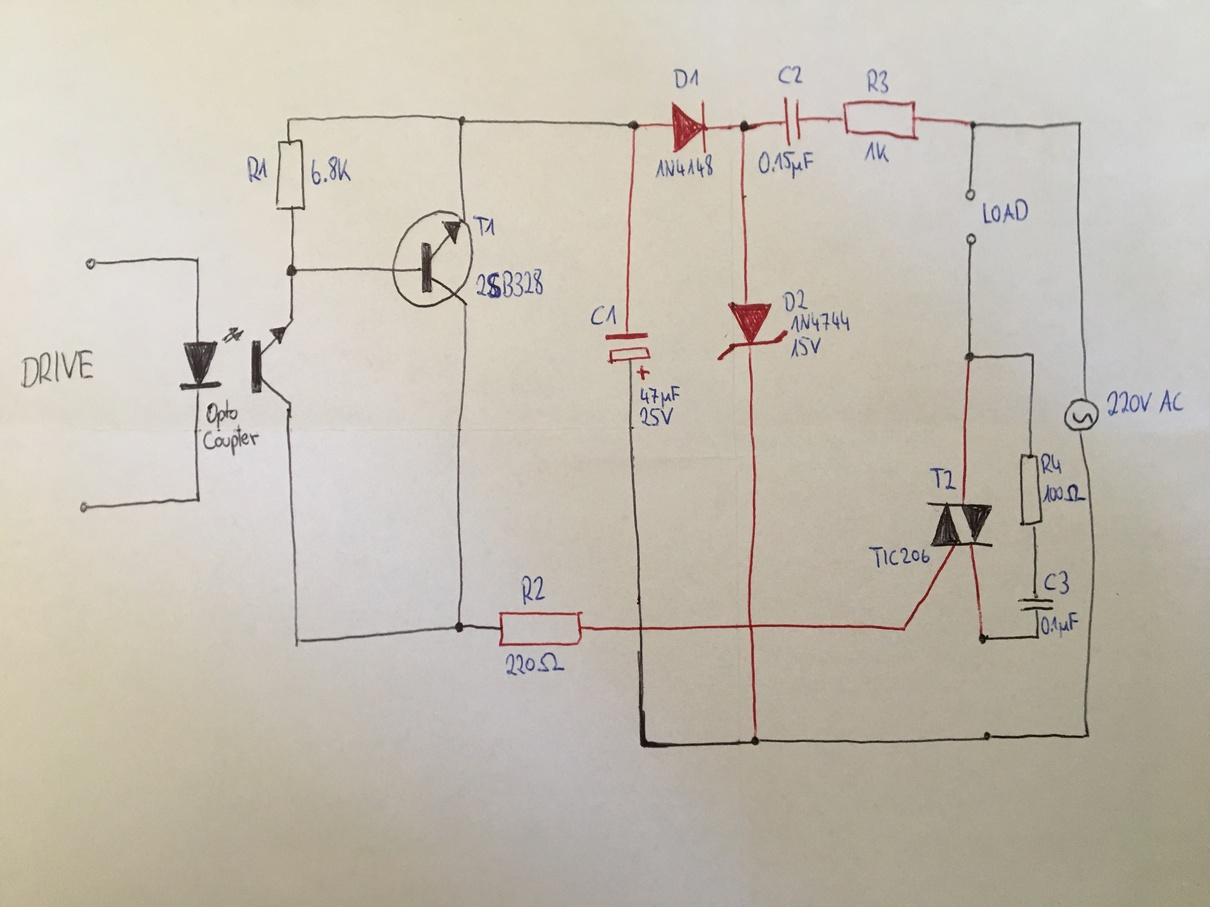capacitor.polarized: (603, 330, 654, 382)
capacitor.unpolarized: (780, 94, 806, 149), (1015, 594, 1056, 614)
crossover: (745, 619, 758, 632), (636, 622, 648, 635)
diode: (716, 301, 790, 362), (669, 97, 709, 156)
junction: (284, 262, 301, 279), (736, 118, 751, 136), (748, 730, 763, 748), (626, 118, 642, 133), (965, 117, 980, 131), (456, 113, 469, 129), (453, 620, 466, 635), (638, 737, 651, 752), (963, 350, 976, 363), (292, 635, 304, 649), (977, 632, 989, 645), (192, 494, 204, 506), (1081, 729, 1093, 740), (1074, 118, 1085, 129), (284, 114, 294, 125), (1027, 350, 1037, 361), (193, 254, 203, 264), (900, 623, 909, 634), (1033, 633, 1041, 641)
optocoupler: (178, 318, 295, 406)
resistor: (841, 97, 921, 144), (496, 609, 585, 649), (272, 137, 309, 214), (1018, 451, 1046, 530)
terminal: (83, 256, 102, 272), (964, 230, 978, 249), (78, 499, 93, 515), (964, 185, 977, 202)
text: (19, 347, 96, 390), (1105, 388, 1186, 417), (474, 267, 545, 300), (202, 426, 261, 457), (757, 149, 815, 180), (654, 153, 716, 180), (504, 651, 567, 677), (867, 544, 931, 569), (790, 309, 852, 333), (309, 154, 354, 187), (981, 197, 1030, 225), (1040, 610, 1079, 639), (204, 397, 239, 428), (519, 573, 548, 607), (1042, 482, 1087, 503), (639, 385, 681, 407), (789, 335, 823, 360), (637, 406, 675, 428), (928, 466, 959, 492), (1042, 569, 1071, 596), (245, 154, 270, 184), (863, 139, 891, 165), (865, 66, 890, 95), (781, 288, 809, 313), (589, 303, 618, 327), (672, 66, 700, 90), (776, 63, 805, 86), (471, 213, 497, 237), (1039, 452, 1064, 475)
transistor: (391, 208, 475, 310)
triac: (924, 497, 997, 558)
voltage.dc_ac: (1063, 397, 1101, 433)
